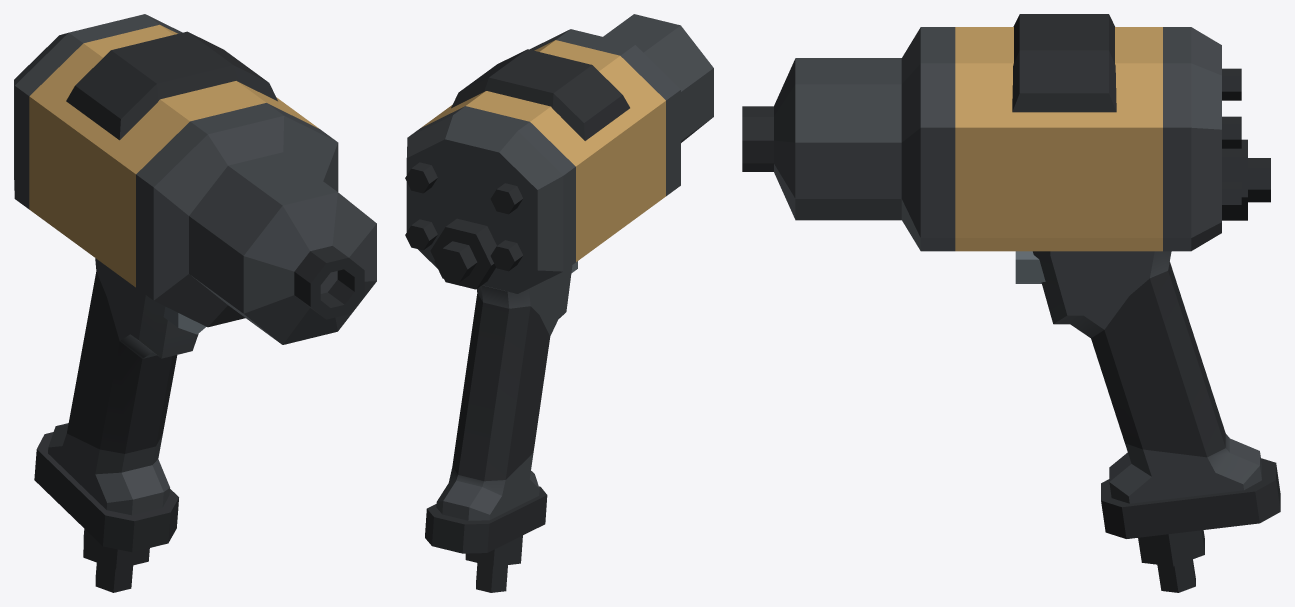
File: SM_Prop_AirDrill_01.fbx
3 views of the same model, side by side, from view 1: azimuth 30°, elevation 25°; view 2: azimuth 150°, elevation 25°; view 3: azimuth 270°, elevation 25° (orthographic). The views are drawn at different scales.
Parts seen in each view (by area): view 1: SM_Prop_AirDrill_01; view 2: SM_Prop_AirDrill_01; view 3: SM_Prop_AirDrill_01.
Part boxes in pixels (x1,y1,x2,y2): SM_Prop_AirDrill_01: (14,14,376,592); SM_Prop_AirDrill_01: (405,14,713,592); SM_Prop_AirDrill_01: (742,14,1280,592).
Bounding box in the file's own units: 13.67 × 40.35 × 35.51.
